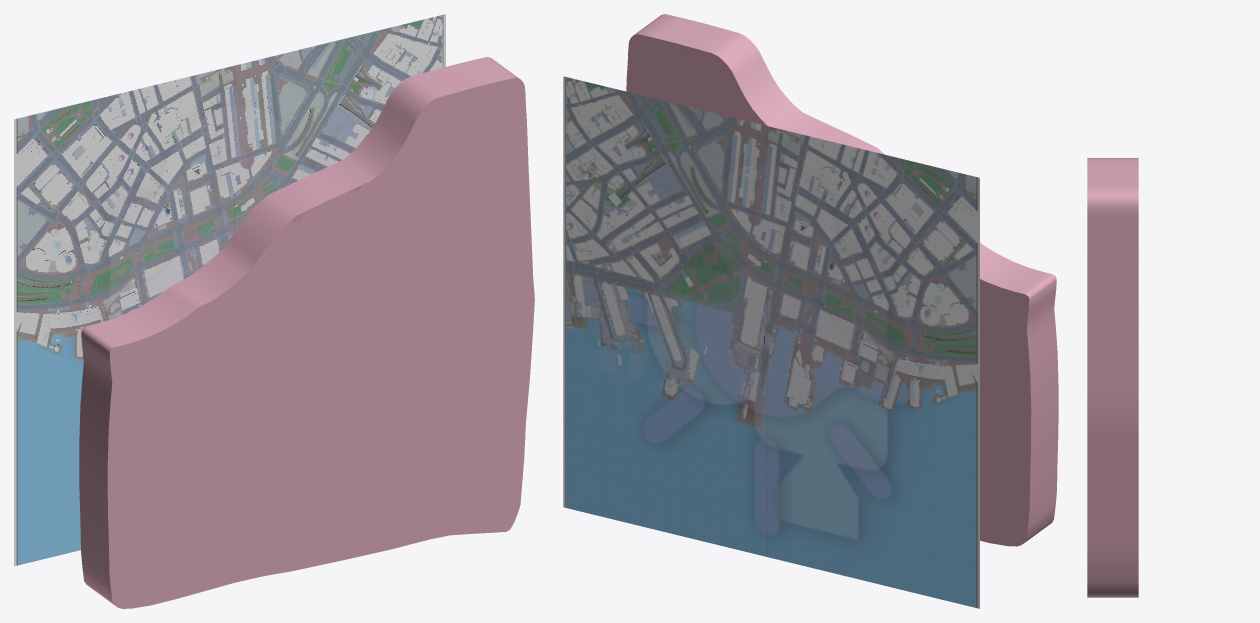
File: floodzone.fbx
3 renders of one model, left to right at view 1: azimuth 30°, elevation 25°; view 2: azimuth 150°, elevation 25°; view 3: azimuth 270°, elevation 25°, orthographic. The views are drawn at different scales.
Parts seen in each view (by area): view 1: root (×2); view 2: root (×2); view 3: root.
Boxes of the visible parts, x1,y1,x2,y2 form: root (×2): [14, 14, 534, 608]; root (×2): [563, 14, 1058, 608]; root: [1087, 158, 1138, 597].
Bounding box in the file's own units: 0.8795 × 0.8772 × 0.3078.
Materials: 2 (2 with a texture image).
